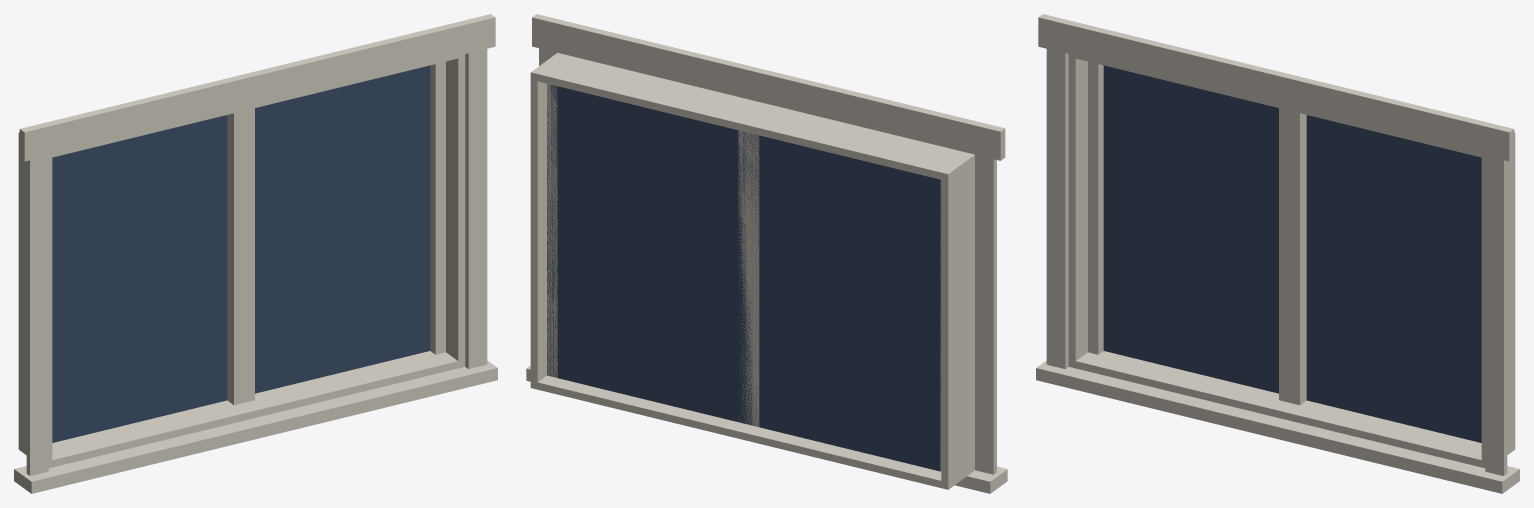
The model's file is kit_window_wide.obj.
3 views of the same model, side by side, from view 1: azimuth 30°, elevation 25°; view 2: azimuth 150°, elevation 25°; view 3: azimuth 330°, elevation 25° (orthographic).
Visible parts, largest first — view 1: kit_window_wide; view 2: kit_window_wide; view 3: kit_window_wide.
Part boxes in pixels (bbox=[...]): kit_window_wide: bbox=[14, 14, 497, 493]; kit_window_wide: bbox=[526, 14, 1007, 493]; kit_window_wide: bbox=[1036, 14, 1519, 493].
Size of the model in its own units: 2.02 by 1.47 by 0.27.
